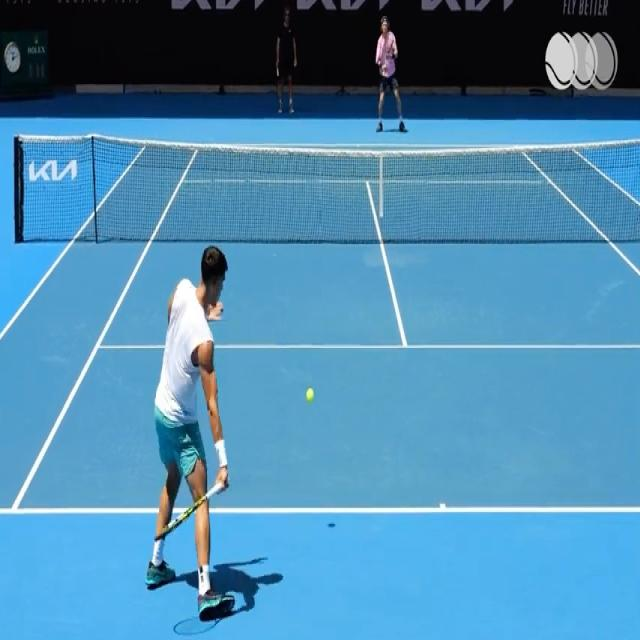forehand-stroke: (151, 232, 237, 618)
